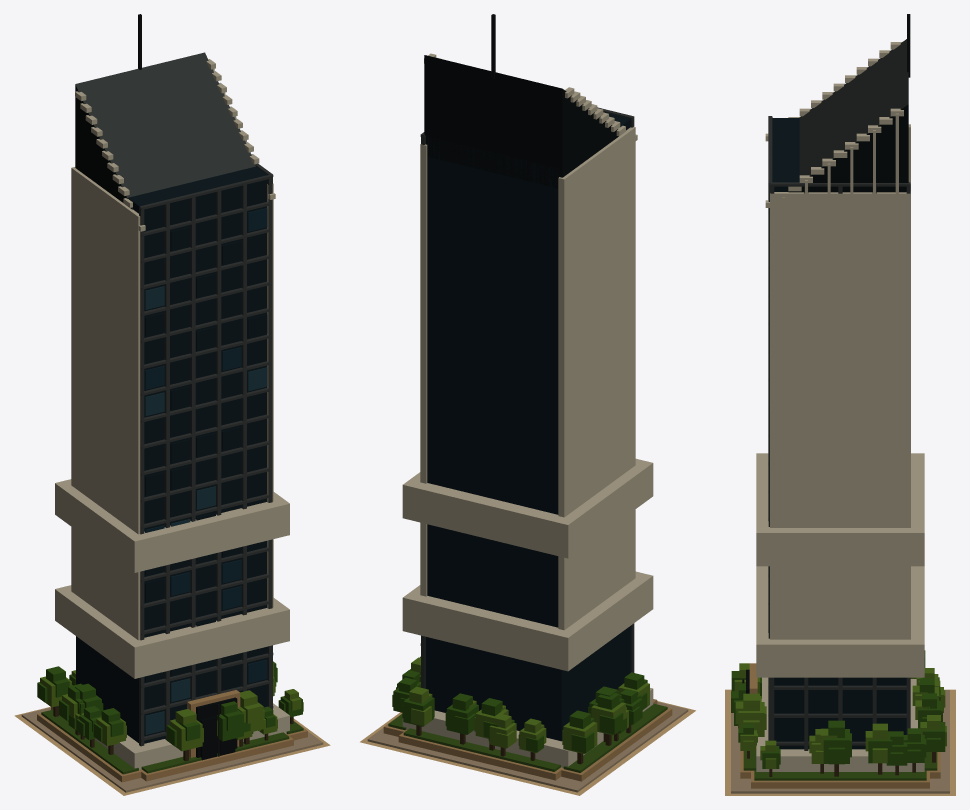
File: SM_Mapa_011.fbx
3 views of the same model, side by side, from view 1: azimuth 30°, elevation 25°; view 2: azimuth 150°, elevation 25°; view 3: azimuth 270°, elevation 25° (orthographic). The views are drawn at different scales.
Visible parts, largest first — view 1: SM_Mapa_011; view 2: SM_Mapa_011; view 3: SM_Mapa_011.
Boxes of the visible parts, left/top/right/bottom form: SM_Mapa_011: left=14, top=14, right=330, bottom=795; SM_Mapa_011: left=360, top=14, right=695, bottom=795; SM_Mapa_011: left=725, top=14, right=955, bottom=795.
Bounding box in the file's own units: 14 × 12.85 × 44.72.
